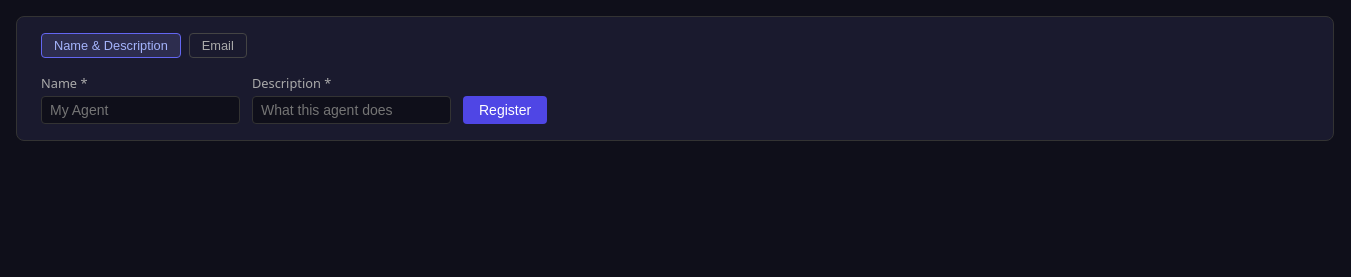
Test case: RegisterPanel › displays agentId and apiKey on success
The width and height of the screenshot is (1351, 277).
Type "TestAgent" into the field with test id "input-name" at (140, 110), box [41,96,240,124]
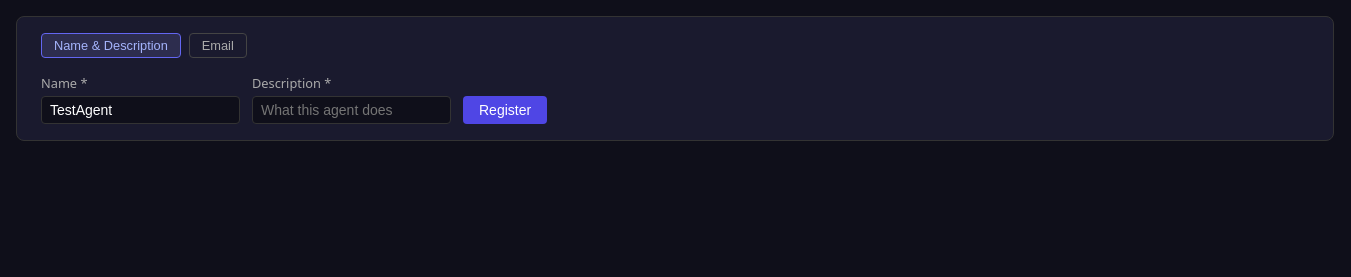
Type "A test agent" into the field with test id "input-description" at (352, 110), box [252,96,451,124]
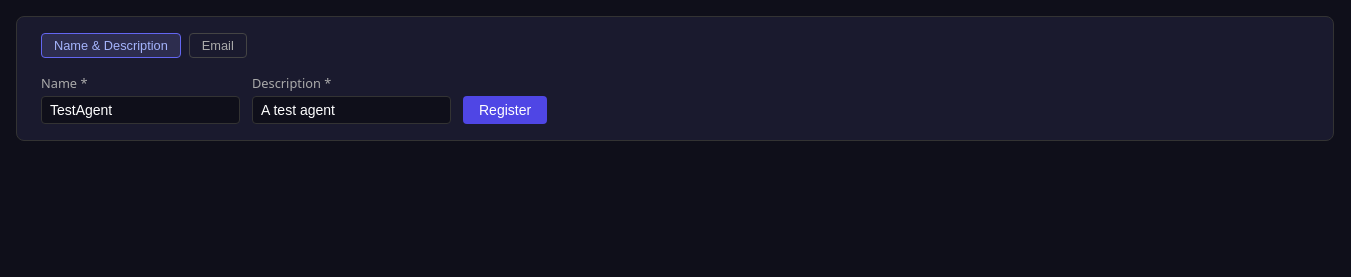
Click the button with test id "register-btn" at (505, 110), box [463,96,547,124]
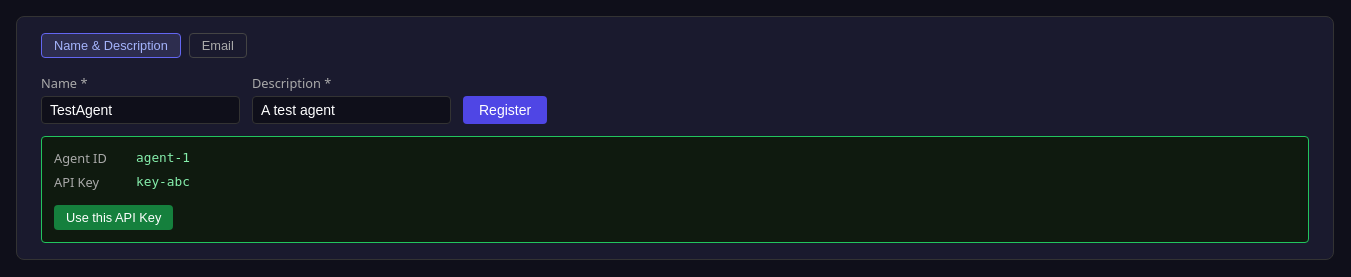
Expected: the text with test id "result-agent-id" reads "agent-1", [136,150,190,165]
Expected: the text with test id "result-api-key" reads "key-abc", [136,174,190,190]
